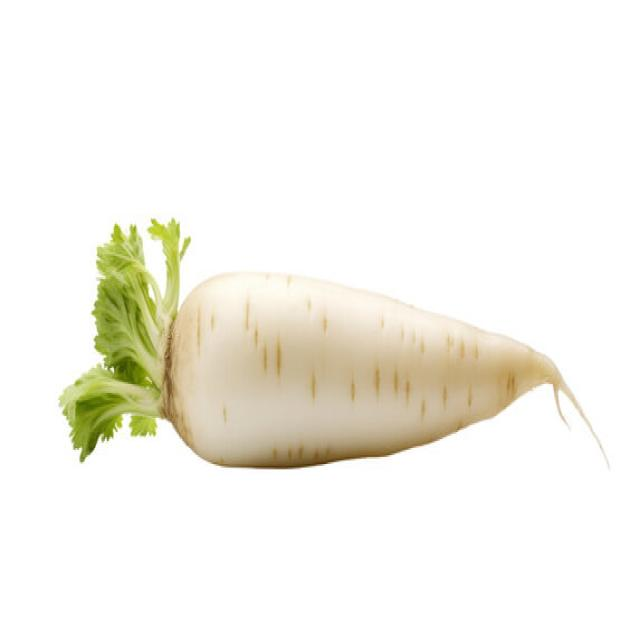Radish: (58, 215, 610, 471), (58, 215, 190, 462)
